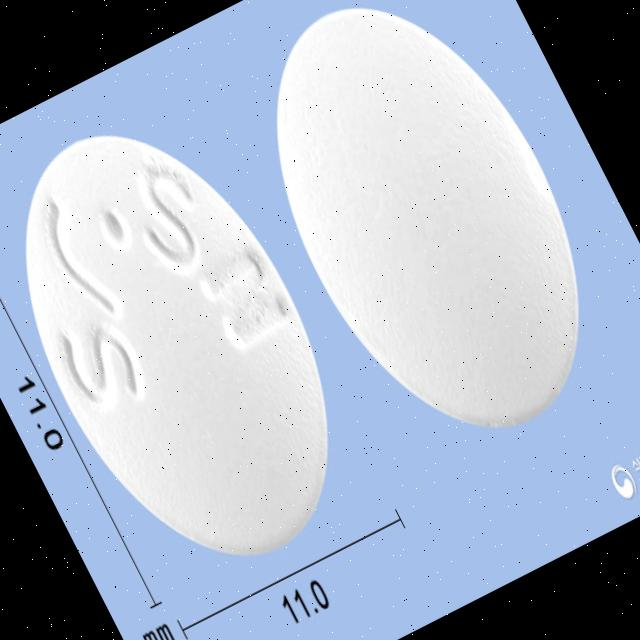Aris: (212, 0, 640, 477), (0, 84, 390, 602)
